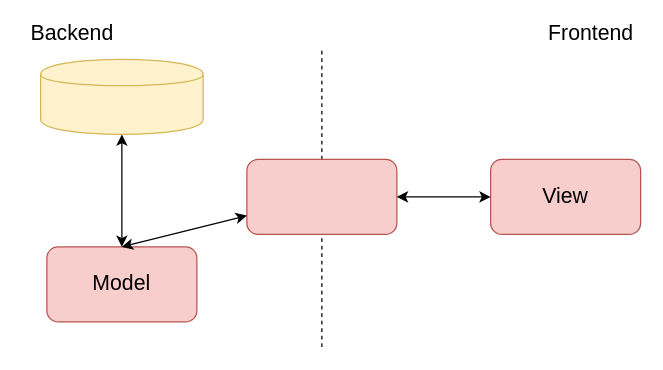
The diagram is 663 pixels wide and 370 high, and some of its shapes have lost their labels. Each missing label, with the centre of its shape:
"Controller" goes at point 321,196.
"Database" goes at point 121,96.
